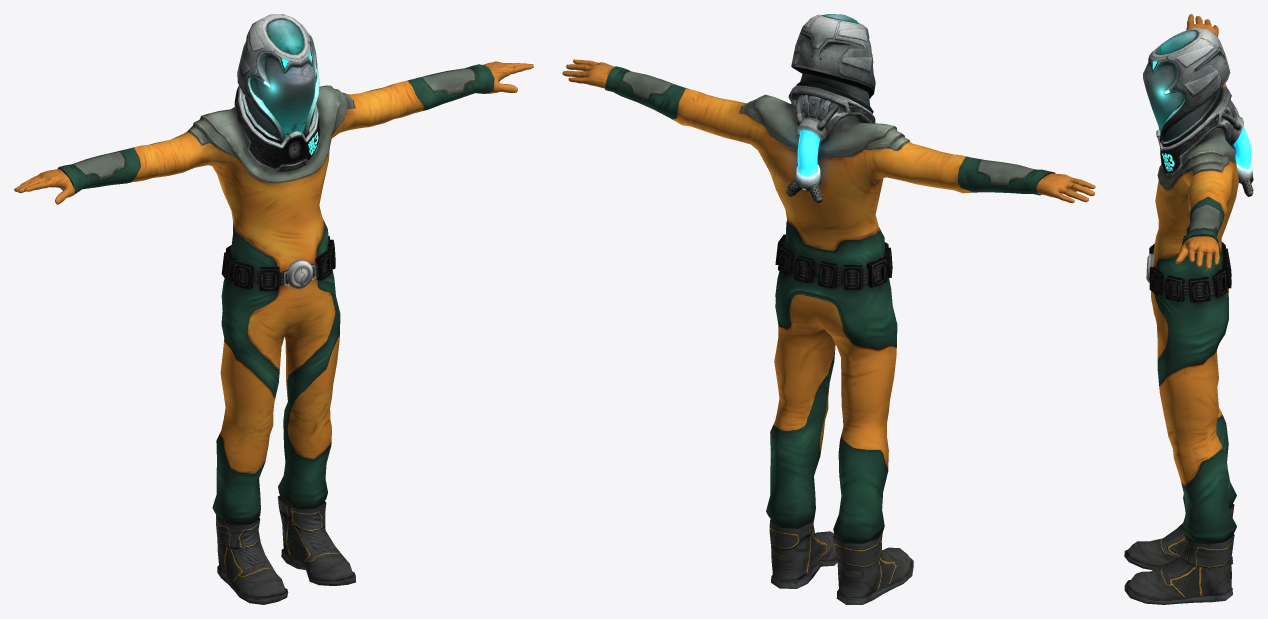
The model's file is Diver.dae.
The picture shows the model from 3 angles, left to right: view 1: azimuth 30°, elevation 25°; view 2: azimuth 150°, elevation 25°; view 3: azimuth 270°, elevation 25°; orthographic projection. The views are drawn at different scales.
Parts seen in each view (by area): view 1: DrawCall_0250, DrawCall_0251, DrawCall_0249, DrawCall_0268, DrawCall_0227, DrawCall_0232, DrawCall_0230; view 2: DrawCall_0250, DrawCall_0251, DrawCall_0249, DrawCall_0227, DrawCall_0231, DrawCall_0230, DrawCall_0232; view 3: DrawCall_0250, DrawCall_0251, DrawCall_0249, DrawCall_0227, DrawCall_0268, DrawCall_0232, DrawCall_0230, DrawCall_0231, DrawCall_0262.
Part boxes in pixels (left/top/right/bottom): DrawCall_0250: left=57, top=64, right=494, bottom=524; DrawCall_0251: left=216, top=495, right=355, bottom=604; DrawCall_0249: left=237, top=14, right=319, bottom=143; DrawCall_0268: left=255, top=19, right=315, bottom=137; DrawCall_0227: left=221, top=236, right=335, bottom=291; DrawCall_0232: left=234, top=85, right=320, bottom=171; DrawCall_0230: left=14, top=61, right=533, bottom=204; DrawCall_0250: left=605, top=66, right=1055, bottom=542; DrawCall_0251: left=769, top=515, right=913, bottom=604; DrawCall_0249: left=791, top=14, right=875, bottom=113; DrawCall_0227: left=775, top=234, right=892, bottom=290; DrawCall_0231: left=786, top=95, right=838, bottom=203; DrawCall_0230: left=562, top=59, right=1095, bottom=203; DrawCall_0232: left=788, top=85, right=875, bottom=143; DrawCall_0250: left=1151, top=83, right=1238, bottom=543; DrawCall_0251: left=1124, top=504, right=1234, bottom=604; DrawCall_0249: left=1148, top=28, right=1230, bottom=146; DrawCall_0227: left=1146, top=242, right=1231, bottom=303; DrawCall_0268: left=1143, top=30, right=1198, bottom=133; DrawCall_0232: left=1156, top=86, right=1235, bottom=175; DrawCall_0230: left=1175, top=14, right=1219, bottom=269; DrawCall_0231: left=1221, top=101, right=1253, bottom=196; DrawCall_0262: left=1163, top=93, right=1216, bottom=141.
Size of the model in its own units: 18.37 by 18.86 by 4.04.
8 materials, 8 textured.
